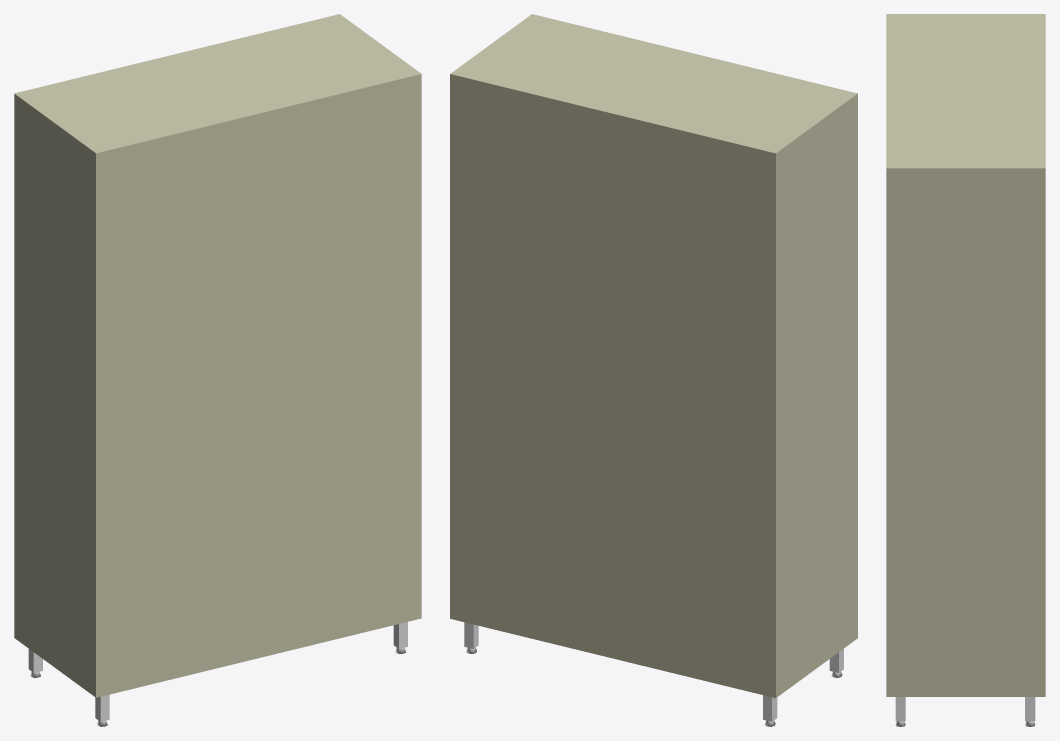
Rendered from Tropy_shelf.dae.
The picture shows the model from 3 angles, left to right: view 1: azimuth 30°, elevation 25°; view 2: azimuth 150°, elevation 25°; view 3: azimuth 270°, elevation 25°; orthographic projection. The views are drawn at different scales.
Visible parts, largest first — view 1: Tropy_shelf; view 2: Tropy_shelf; view 3: Tropy_shelf.
Part boxes in pixels (box(x1,y1,x2,y2)): Tropy_shelf: box(14, 14, 421, 726); Tropy_shelf: box(450, 14, 857, 726); Tropy_shelf: box(886, 14, 1045, 726).
Bounding box in the file's own units: 0.895 × 0.39 × 1.52.
